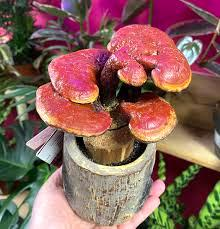Ganoderma - Fruit Body: (35, 24, 192, 143)
